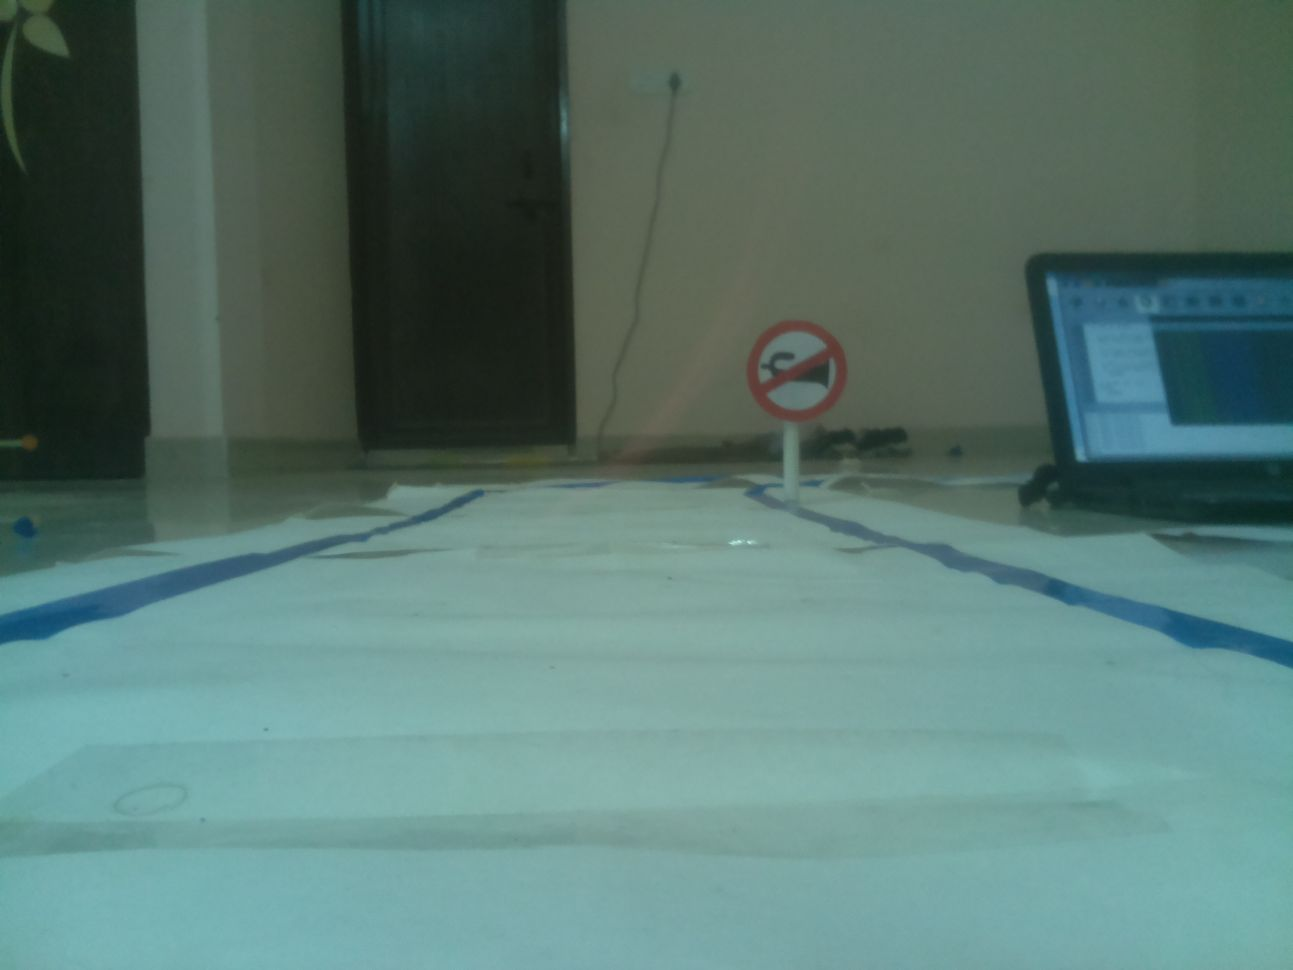no-horn: (746, 319, 848, 422)
